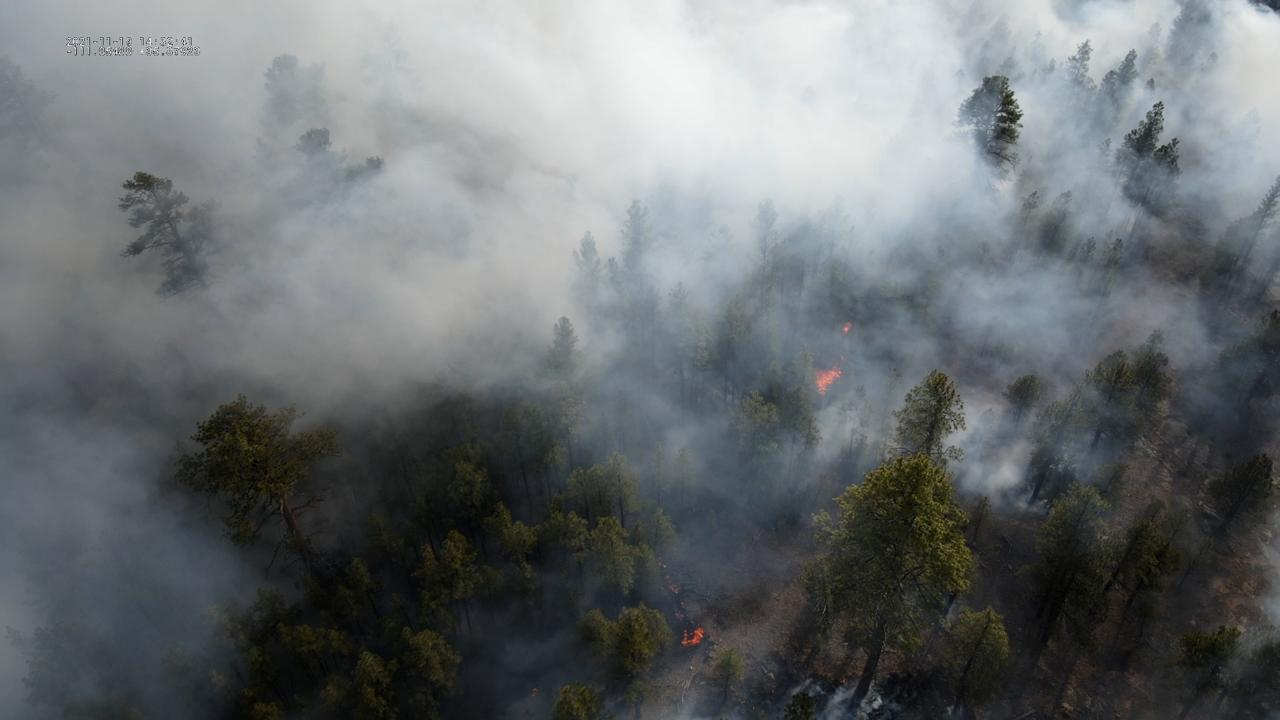fire: (811, 365, 843, 397), (680, 626, 704, 648), (840, 320, 854, 335), (530, 687, 539, 698)
smoke: (0, 0, 1280, 720)
